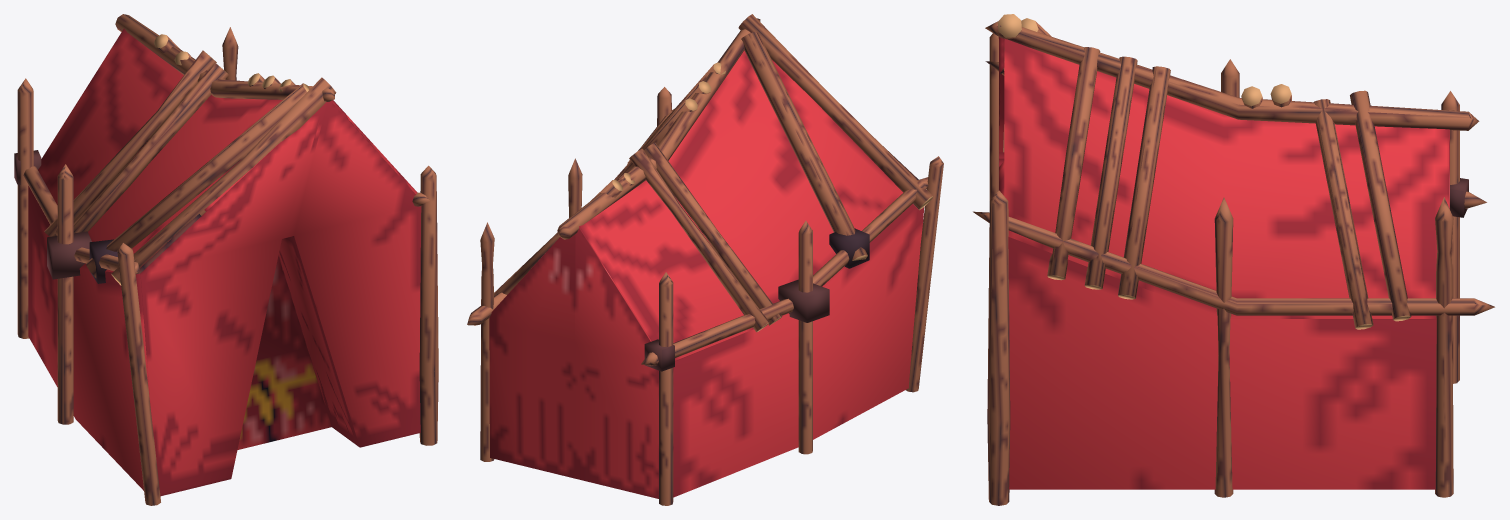
Rendered from Tendinha.fbx.
3 renders of one model, left to right at view 1: azimuth 30°, elevation 25°; view 2: azimuth 150°, elevation 25°; view 3: azimuth 270°, elevation 25°, orthographic. The views are drawn at different scales.
Parts seen in each view (by area): view 1: Tendinha; view 2: Tendinha; view 3: Tendinha.
Part boxes in pixels (x1=…): Tendinha: x1=14, y1=14, x2=438, y2=505; Tendinha: x1=467, y1=14, x2=943, y2=505; Tendinha: x1=973, y1=14, x2=1494, y2=505.
Size of the model in its own units: 232 by 285 by 260.
